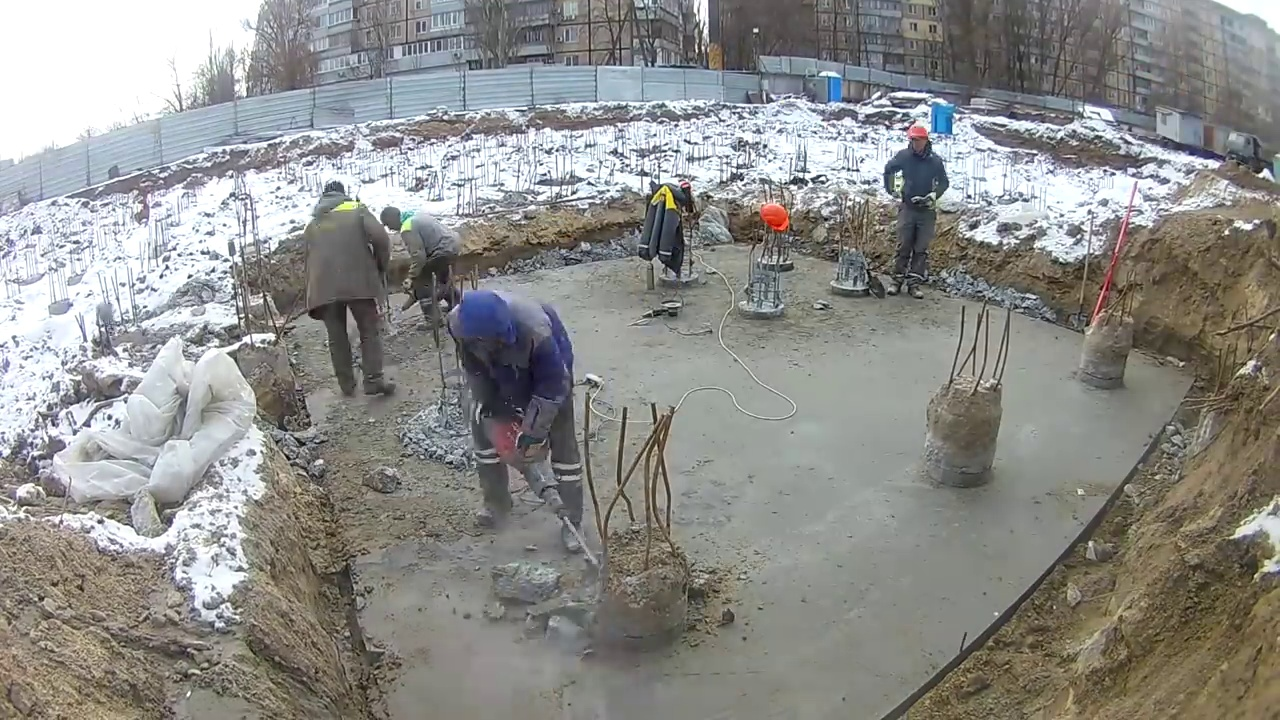helmet: (760, 203, 790, 232), (904, 126, 930, 141)
helmet-off: (456, 284, 519, 374), (312, 179, 349, 221), (379, 205, 410, 234)
helmet-on: (903, 126, 933, 160)
person: (453, 287, 587, 556), (296, 177, 395, 397), (879, 124, 948, 305), (379, 205, 455, 334)
